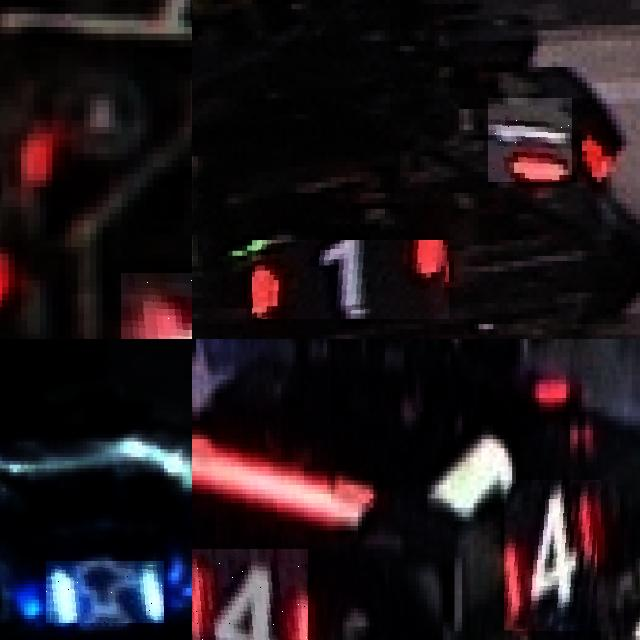Bs: (46, 561, 164, 623)
R1: (252, 240, 449, 319), (488, 99, 572, 182)
R4: (504, 480, 601, 631), (192, 548, 308, 640)
